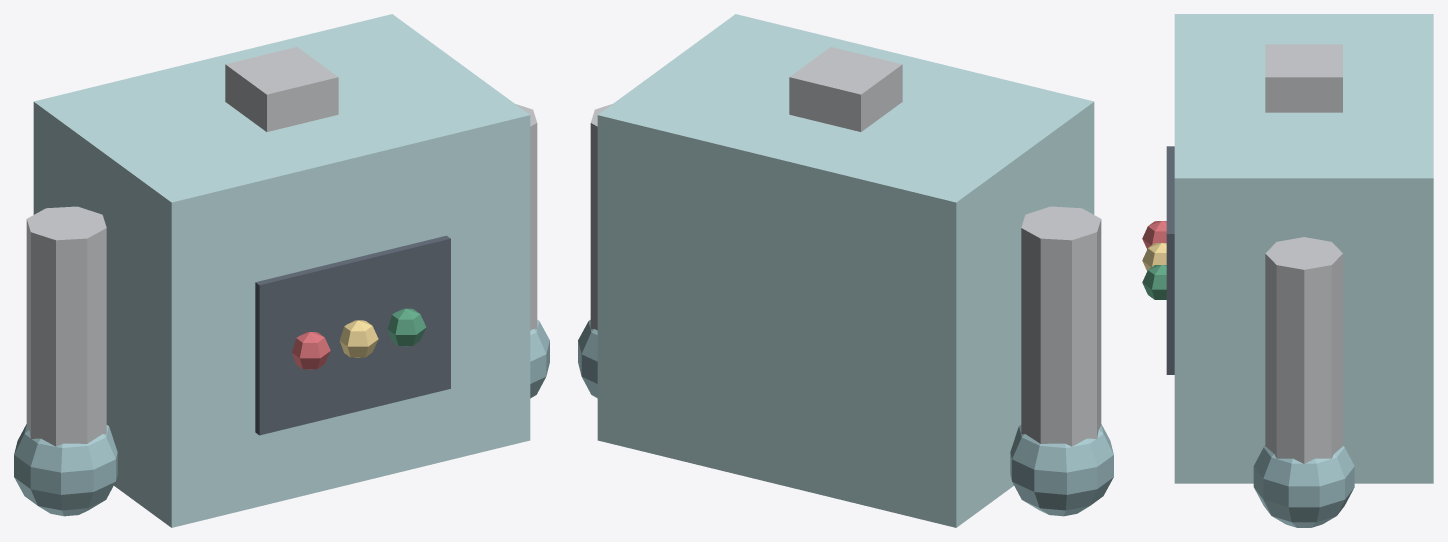
Rendered from toy_robot_torso.glb.
The picture shows the model from 3 angles, left to right: view 1: azimuth 30°, elevation 25°; view 2: azimuth 150°, elevation 25°; view 3: azimuth 270°, elevation 25°; orthographic projection. The views are drawn at different scales.
Visible parts, largest first — view 1: Body, Arm.-1, Chest panel, Hand.-1, Button.0, Button.1, Button.2; view 2: Body, Arm.-1, Hand.-1; view 3: Body, Arm.-1, Hand.-1, Chest panel, Button.2, Button.0, Button.1.
Boxes of the visible parts, left/top/right/bottom form: Body: left=33, top=14, right=530, bottom=527; Arm.-1: left=26, top=47, right=537, bottom=446; Chest panel: left=255, top=235, right=450, bottom=435; Hand.-1: left=14, top=320, right=549, bottom=516; Button.0: left=292, top=332, right=330, bottom=369; Button.1: left=339, top=320, right=378, bottom=357; Button.2: left=387, top=308, right=426, bottom=346; Body: left=597, top=14, right=1094, bottom=527; Arm.-1: left=590, top=47, right=1101, bottom=446; Hand.-1: left=578, top=320, right=1113, bottom=516; Body: left=1174, top=14, right=1433, bottom=483; Arm.-1: left=1265, top=44, right=1342, bottom=463; Hand.-1: left=1253, top=445, right=1354, bottom=527; Chest panel: left=1166, top=146, right=1174, bottom=374; Button.2: left=1142, top=265, right=1166, bottom=299; Button.0: left=1142, top=221, right=1166, bottom=249; Button.1: left=1142, top=243, right=1166, bottom=270.
Size of the model in its own units: 0.4342 by 0.31 by 0.225.
